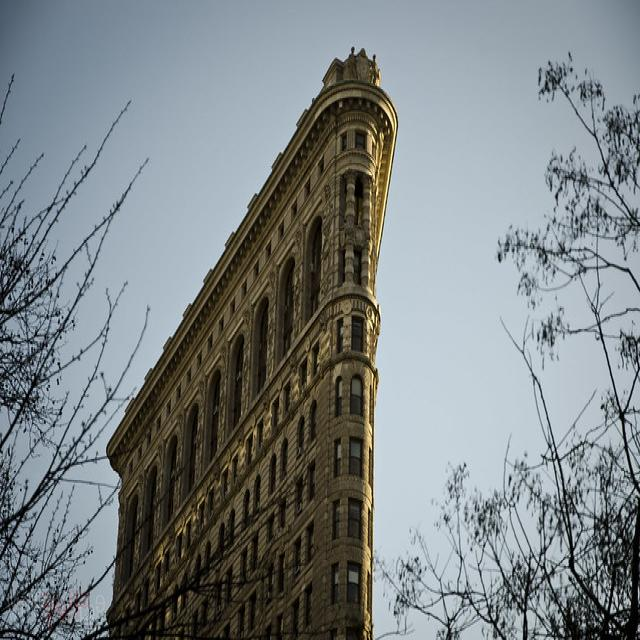Normal_building: (96, 39, 402, 636)
